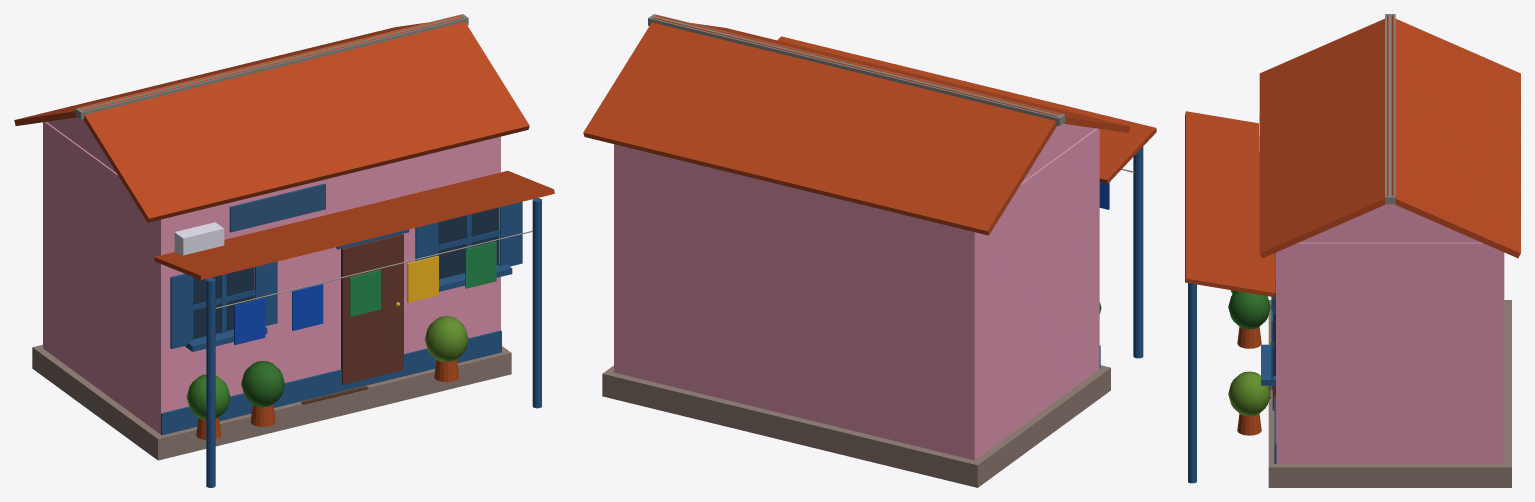
Rendered from house-ambon-b.glb.
3 views of the same model, side by side, from view 1: azimuth 30°, elevation 25°; view 2: azimuth 150°, elevation 25°; view 3: azimuth 270°, elevation 25° (orthographic). The views are drawn at different scales.
Visible parts, largest first — view 1: Cube; view 2: Cube; view 3: Cube.
Part boxes in pixels (x1,y1,x2,y2): Cube: [14, 14, 554, 487]; Cube: [583, 14, 1156, 487]; Cube: [1185, 14, 1520, 487].
Size of the model in its own units: 1.31 by 1 by 1.02.
1 material, 1 textured.
